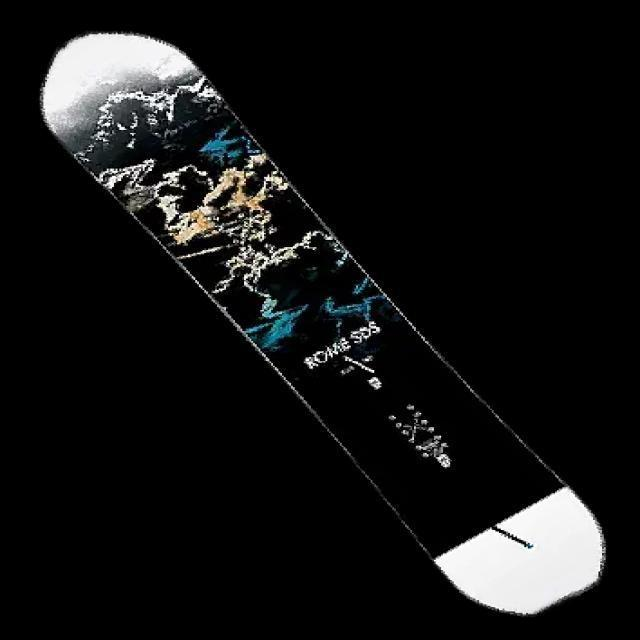Snowboard: (38, 30, 606, 617)
